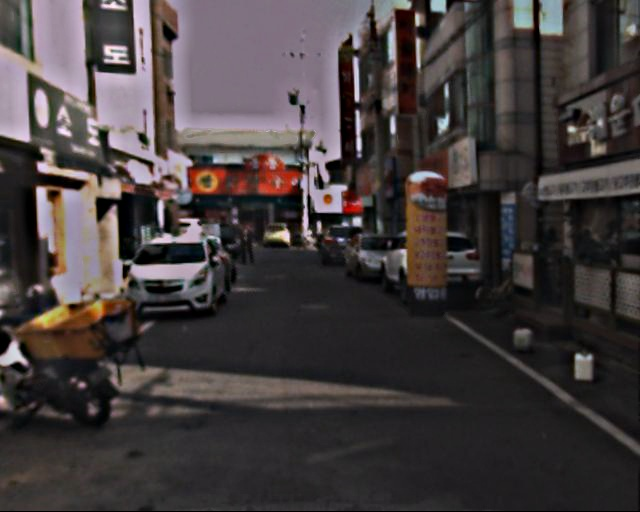person: (238, 221, 261, 267)
